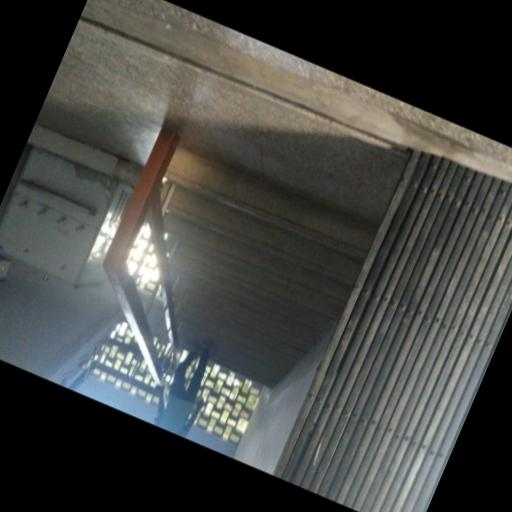stairs: (165, 148, 375, 386)
